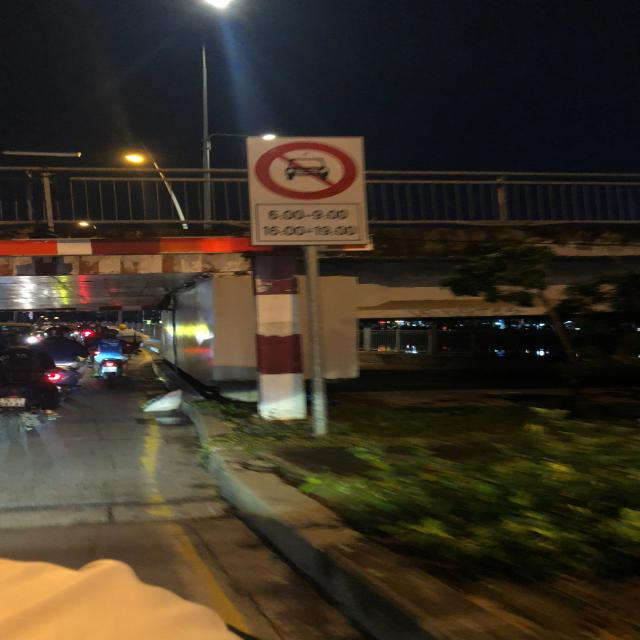Bien bao cam xe oto: (251, 137, 365, 201)
